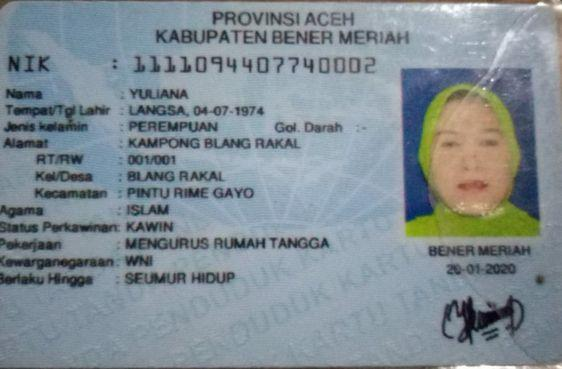ID-card: (0, 2, 560, 367)
